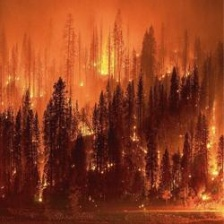fire: (25, 101, 119, 201), (169, 100, 224, 218), (86, 31, 137, 79)
